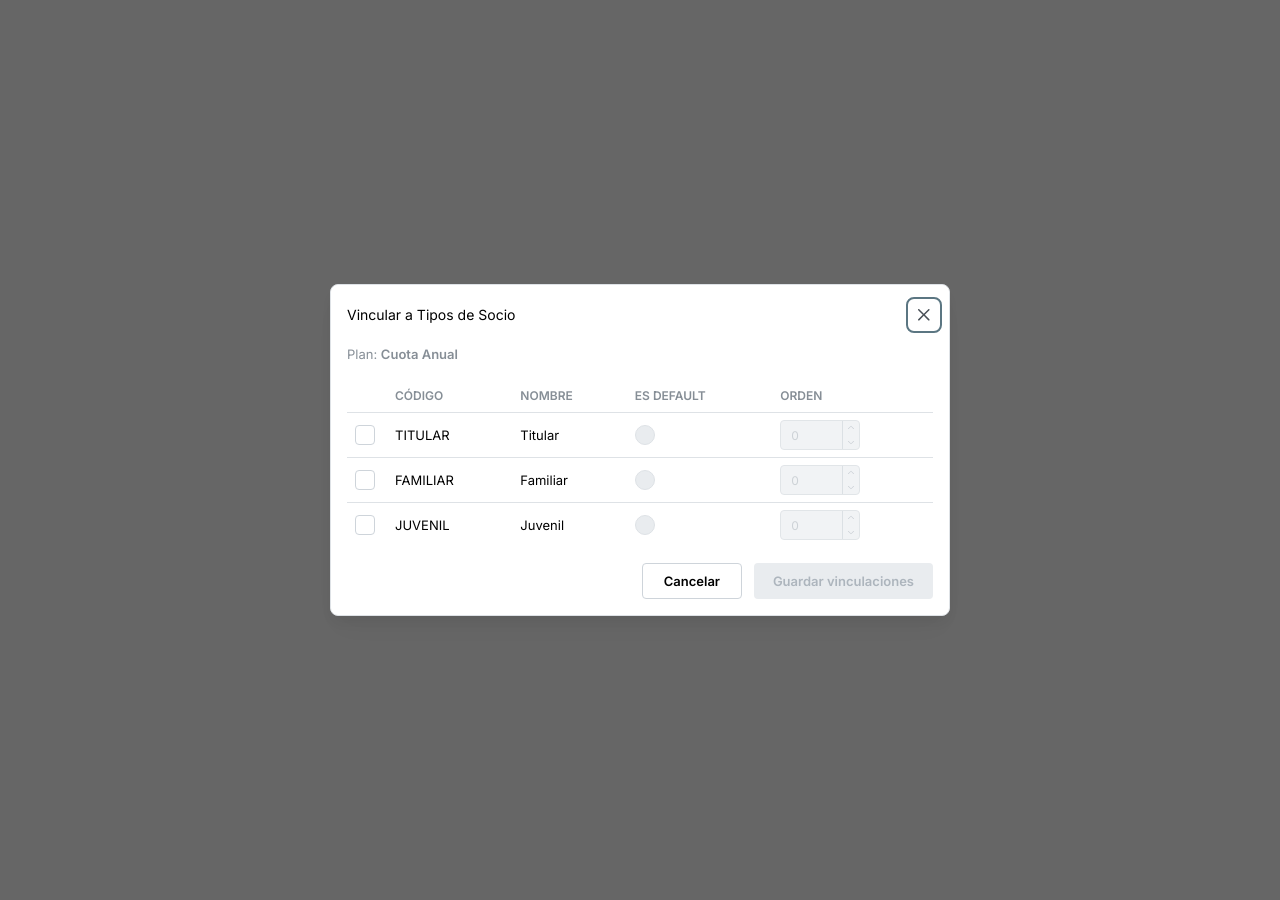
Test: LinkMemberTypesModal › seleccion de tipos de socio › deberia deshabilitar boton Guardar al deseleccionar todos los tipos
# seleccionar y luego deseleccionar
Click the checkbox named "Seleccionar Titular".
click(365, 435)  # box [355, 425, 375, 445]
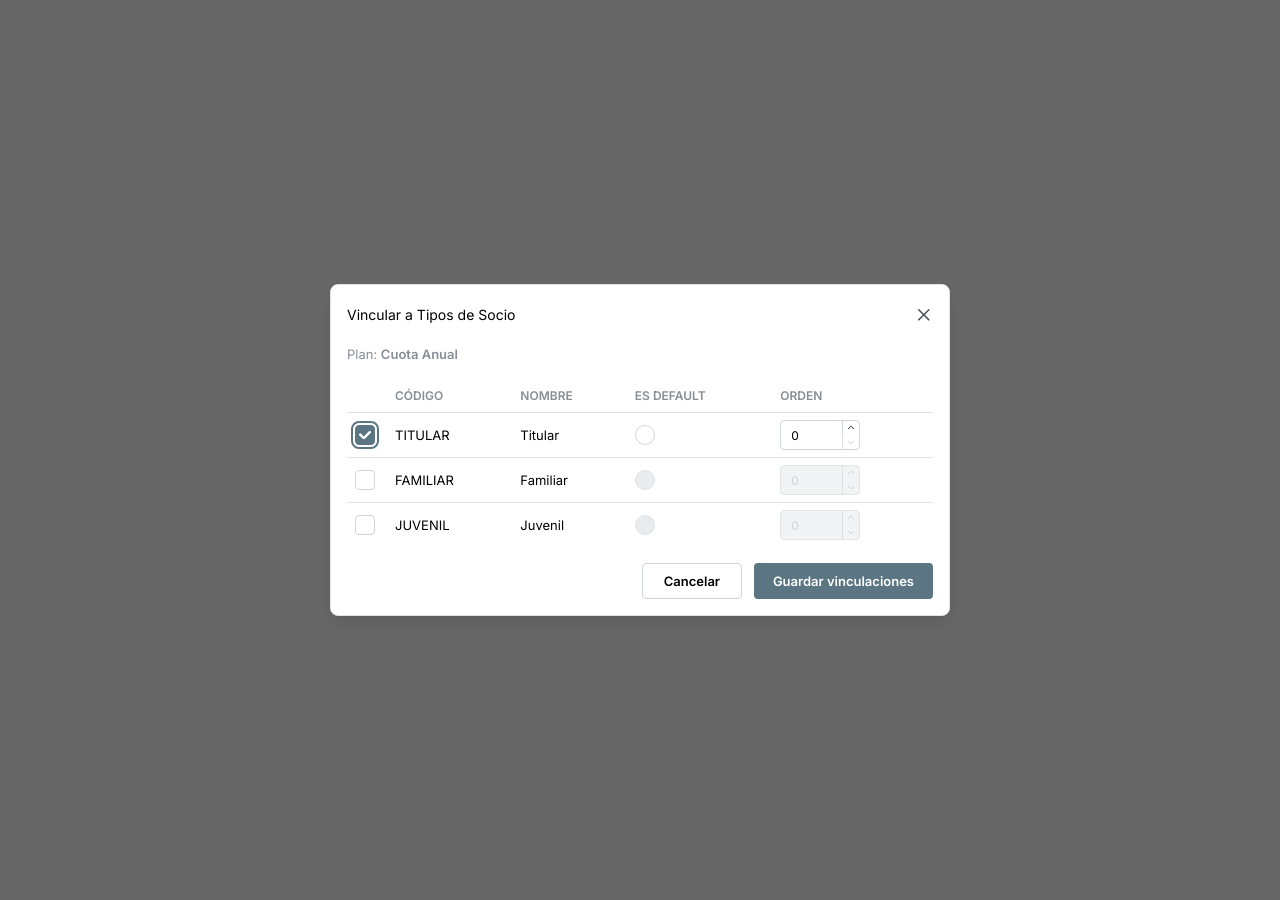
Click the checkbox named "Seleccionar Titular".
click(365, 435)  # box [355, 425, 375, 445]
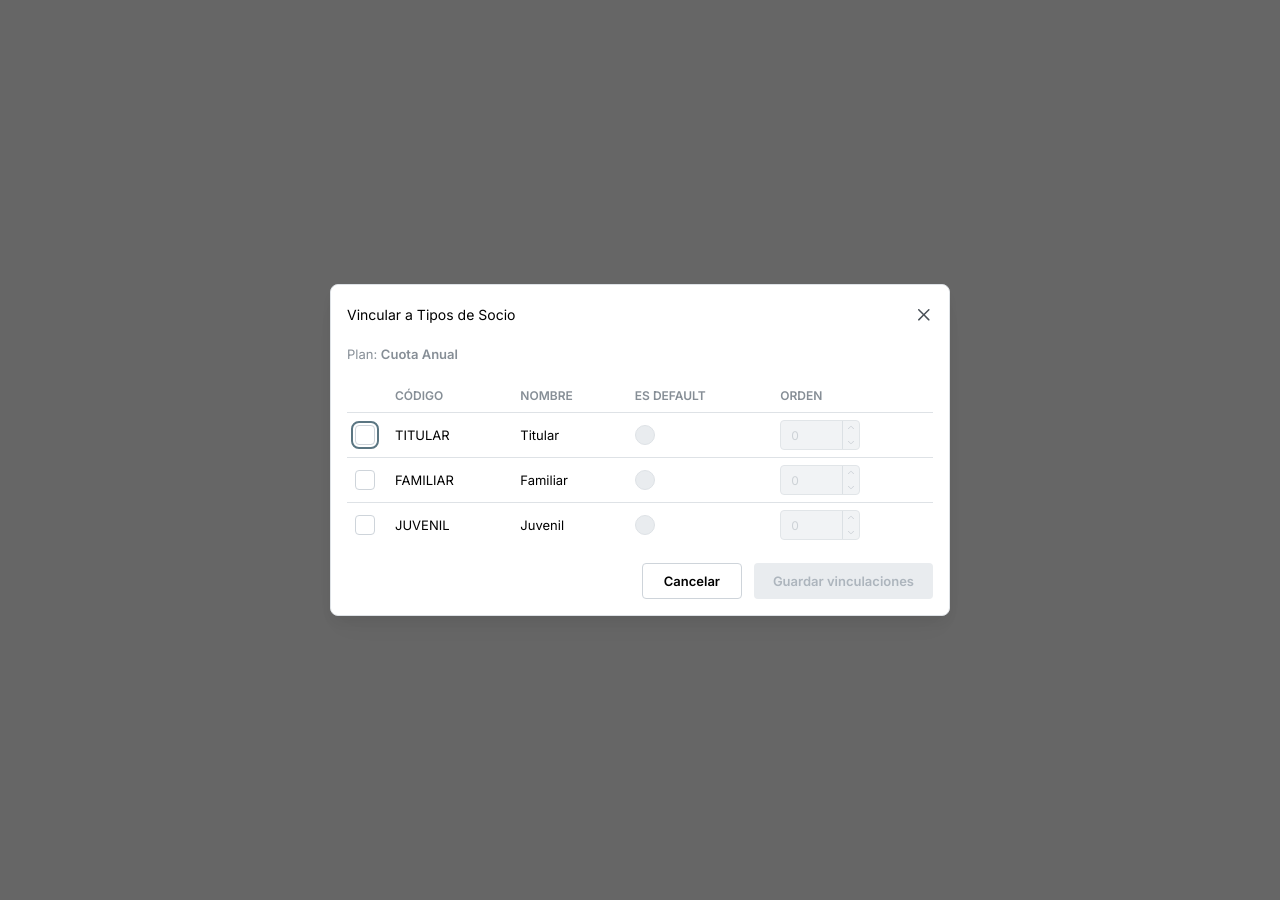
Result: the button "Guardar vinculaciones" is disabled at [754, 563, 933, 599]
